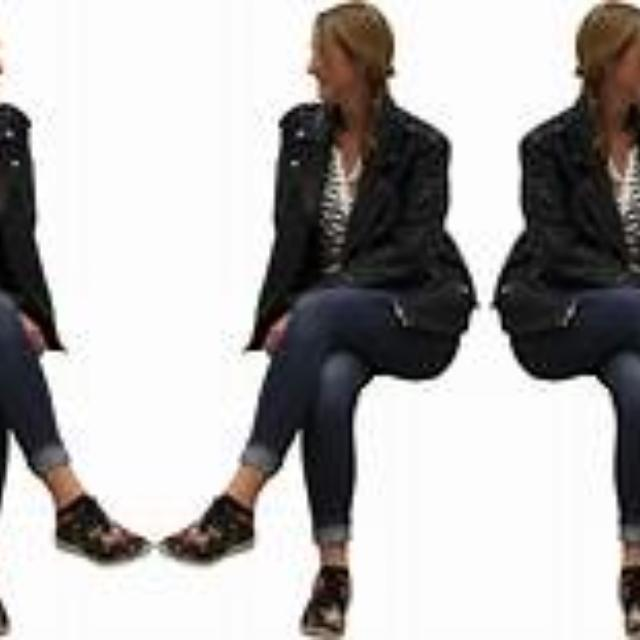person: (193, 0, 484, 594), (484, 0, 640, 594), (0, 0, 114, 594)
